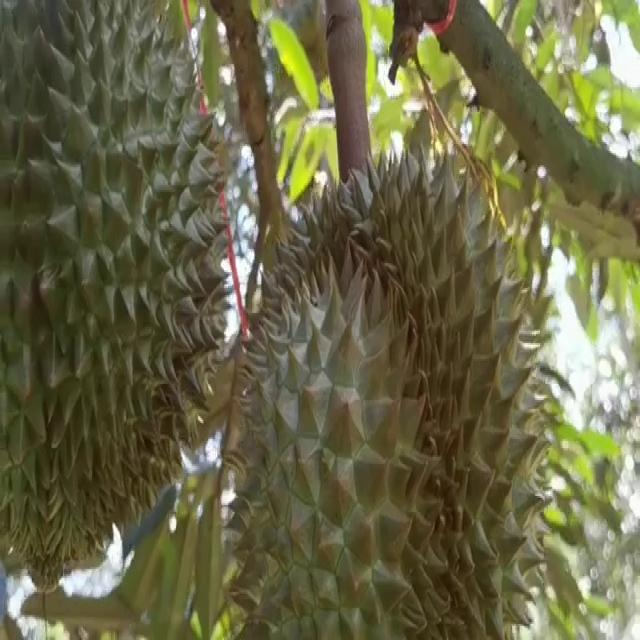durian: (220, 139, 554, 638), (1, 0, 232, 601)
